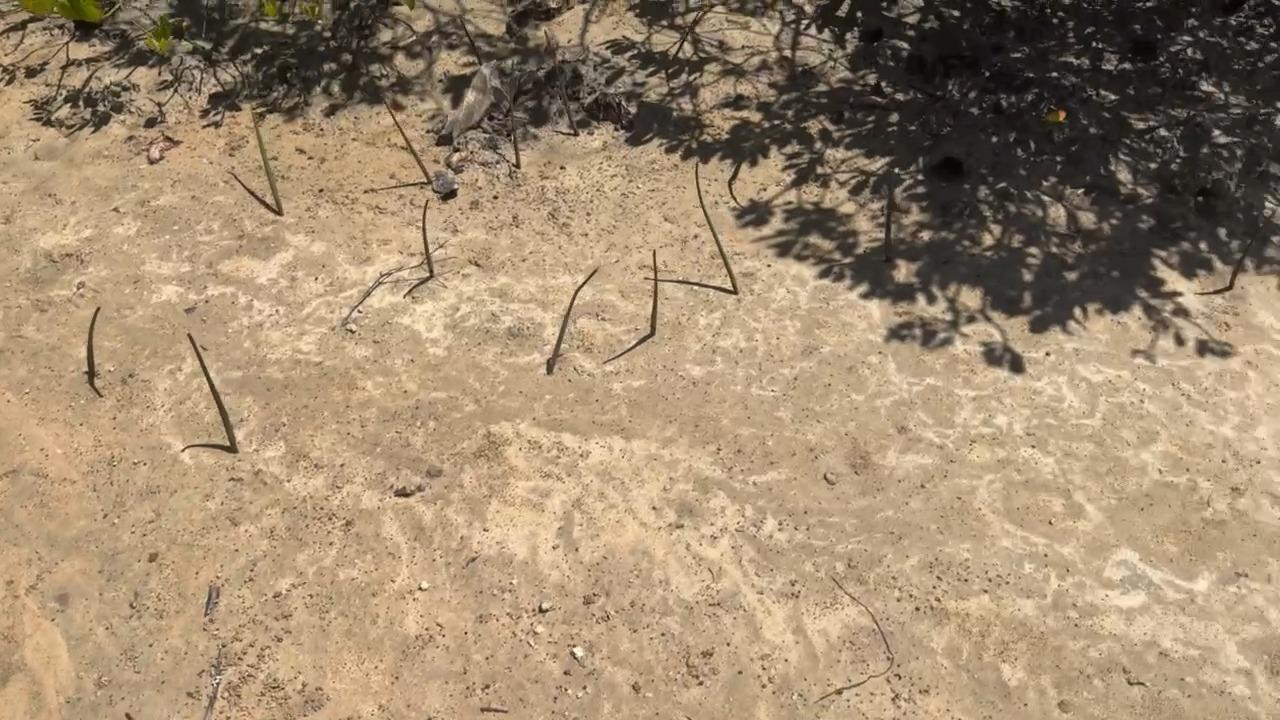Tree: (186, 331, 239, 456), (694, 162, 741, 296), (549, 266, 601, 375), (379, 90, 434, 186), (543, 28, 582, 137), (249, 108, 285, 218), (1227, 218, 1266, 290), (508, 58, 523, 169), (883, 160, 895, 264), (459, 15, 483, 66), (421, 198, 436, 278), (86, 306, 102, 380), (649, 249, 659, 336)
